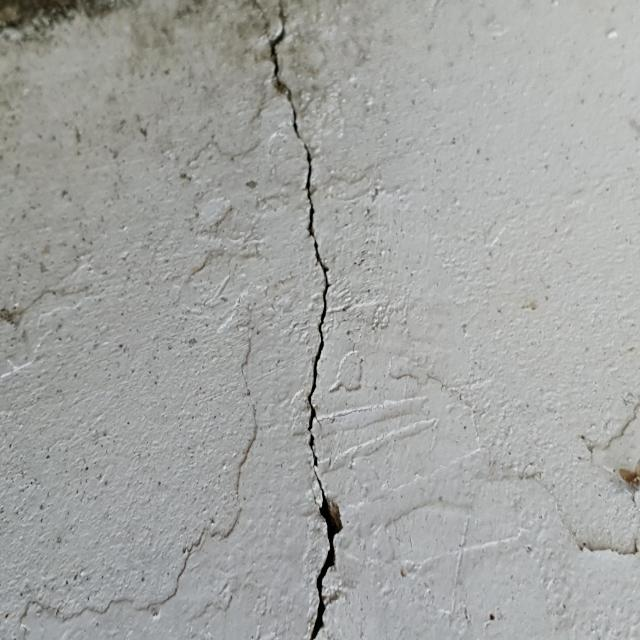SurfaceCrack: (210, 0, 384, 639)
